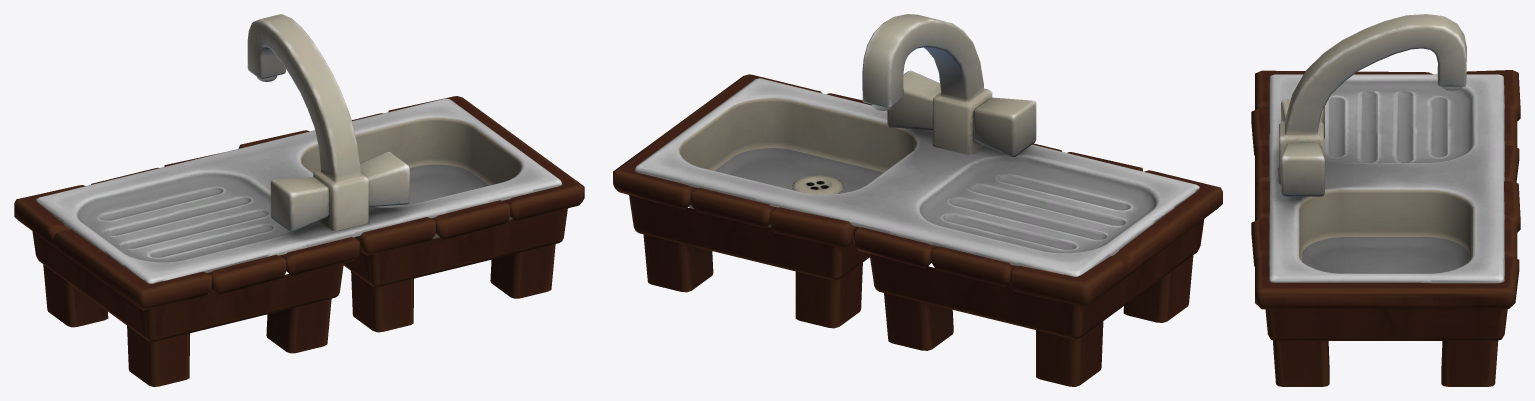
File: m_wizard_sink_01.fbx
The picture shows the model from 3 angles, left to right: view 1: azimuth 30°, elevation 25°; view 2: azimuth 150°, elevation 25°; view 3: azimuth 270°, elevation 25°; orthographic projection. The views are drawn at different scales.
Parts seen in each view (by area): view 1: m_wizard_sink_01_0, m_wizard_sink_01_1; view 2: m_wizard_sink_01_0, m_wizard_sink_01_1; view 3: m_wizard_sink_01_0, m_wizard_sink_01_1.
Part boxes in pixels (box(x1,y1,x2,y2)): m_wizard_sink_01_0: box(36, 14, 562, 283); m_wizard_sink_01_1: box(14, 96, 584, 386); m_wizard_sink_01_0: box(635, 14, 1199, 276); m_wizard_sink_01_1: box(613, 74, 1222, 386); m_wizard_sink_01_0: box(1268, 14, 1504, 283); m_wizard_sink_01_1: box(1251, 70, 1520, 386).
Size of the model in its own units: 2.39 by 1.35 by 1.23.
Materials: 2 (2 with a texture image).
